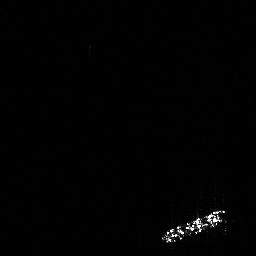ship: (160, 207, 228, 245)
